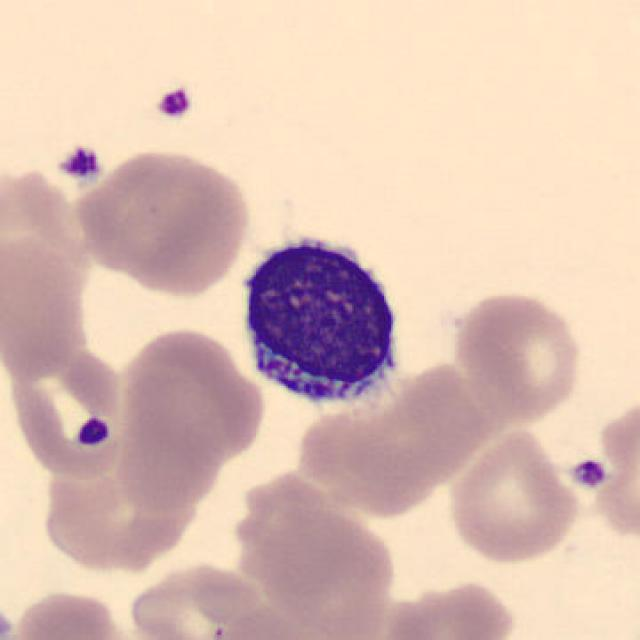Lymphocyte: (231, 220, 413, 418)
Platelets: (53, 141, 105, 187), (151, 83, 196, 123), (567, 455, 612, 492), (74, 414, 116, 448)
RBC: (69, 143, 256, 296), (112, 322, 267, 478), (233, 502, 402, 638), (443, 425, 583, 566), (448, 287, 587, 427), (48, 449, 200, 573), (2, 338, 130, 482), (288, 406, 438, 518), (368, 360, 492, 490), (0, 236, 90, 382), (124, 559, 268, 640), (380, 576, 519, 640), (0, 585, 137, 640), (160, 601, 350, 640), (603, 392, 640, 538)
